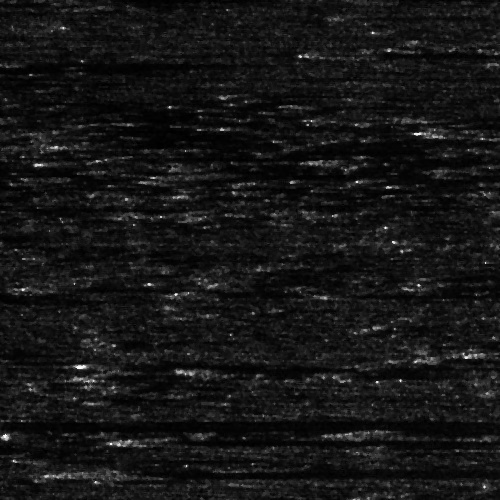object: (379, 349, 484, 366), (28, 467, 163, 478), (125, 168, 260, 179), (299, 426, 434, 437), (0, 411, 54, 434), (81, 432, 186, 443), (0, 449, 77, 462), (271, 155, 376, 164), (173, 361, 256, 372), (303, 290, 386, 297), (48, 358, 131, 365), (0, 284, 83, 291), (204, 276, 257, 285), (156, 289, 219, 296), (329, 49, 360, 52)
shadow: (0, 411, 500, 434), (95, 467, 485, 478), (134, 432, 500, 443), (192, 168, 500, 179), (0, 174, 151, 187), (90, 358, 317, 365), (215, 361, 333, 372), (432, 349, 500, 366), (324, 155, 449, 164), (345, 290, 500, 297), (231, 276, 348, 285), (0, 60, 72, 73), (30, 449, 95, 462), (188, 289, 303, 296), (42, 284, 153, 291), (367, 426, 435, 437), (345, 49, 479, 52)
